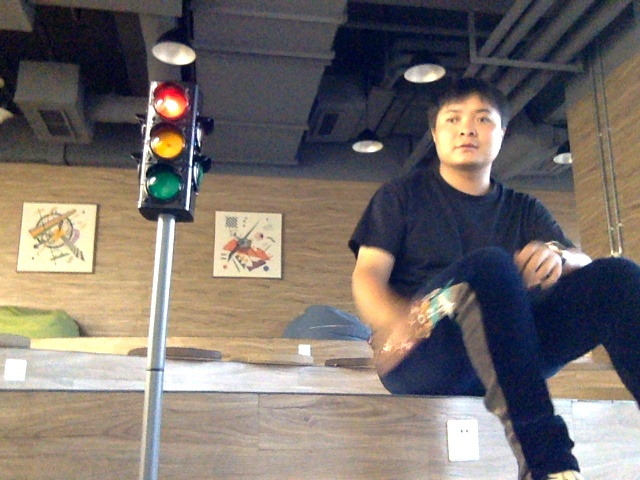red: (148, 85, 188, 204)
